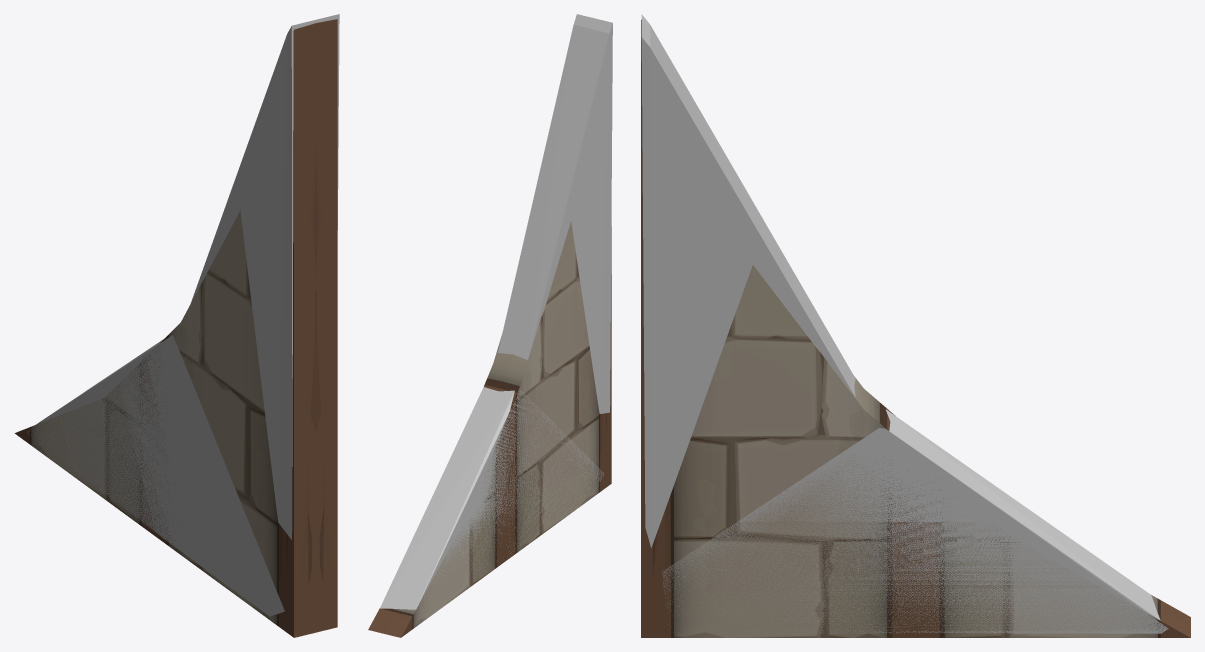
The model's file is SM_Bld_Wall_End_Concave_01.fbx.
3 views of the same model, side by side, from view 1: azimuth 30°, elevation 25°; view 2: azimuth 150°, elevation 25°; view 3: azimuth 270°, elevation 25° (orthographic). The views are drawn at different scales.
Visible parts, largest first — view 1: SM_Bld_Wall_End_Concave_01, SM_Bld_Wall_End_Concave_01_ConvexHulls; view 2: SM_Bld_Wall_End_Concave_01_ConvexHulls, SM_Bld_Wall_End_Concave_01; view 3: SM_Bld_Wall_End_Concave_01_ConvexHulls, SM_Bld_Wall_End_Concave_01.
Boxes of the visible parts, <box> form: SM_Bld_Wall_End_Concave_01: <box>14,19,337,637</box>; SM_Bld_Wall_End_Concave_01_ConvexHulls: <box>26,14,339,616</box>; SM_Bld_Wall_End_Concave_01_ConvexHulls: <box>380,14,612,609</box>; SM_Bld_Wall_End_Concave_01: <box>368,221,611,637</box>; SM_Bld_Wall_End_Concave_01_ConvexHulls: <box>641,14,1168,633</box>; SM_Bld_Wall_End_Concave_01: <box>641,19,1190,637</box>.
Bounding box in the file's own units: 24.67 × 250 × 302.
Materials: 2 (1 with a texture image).
